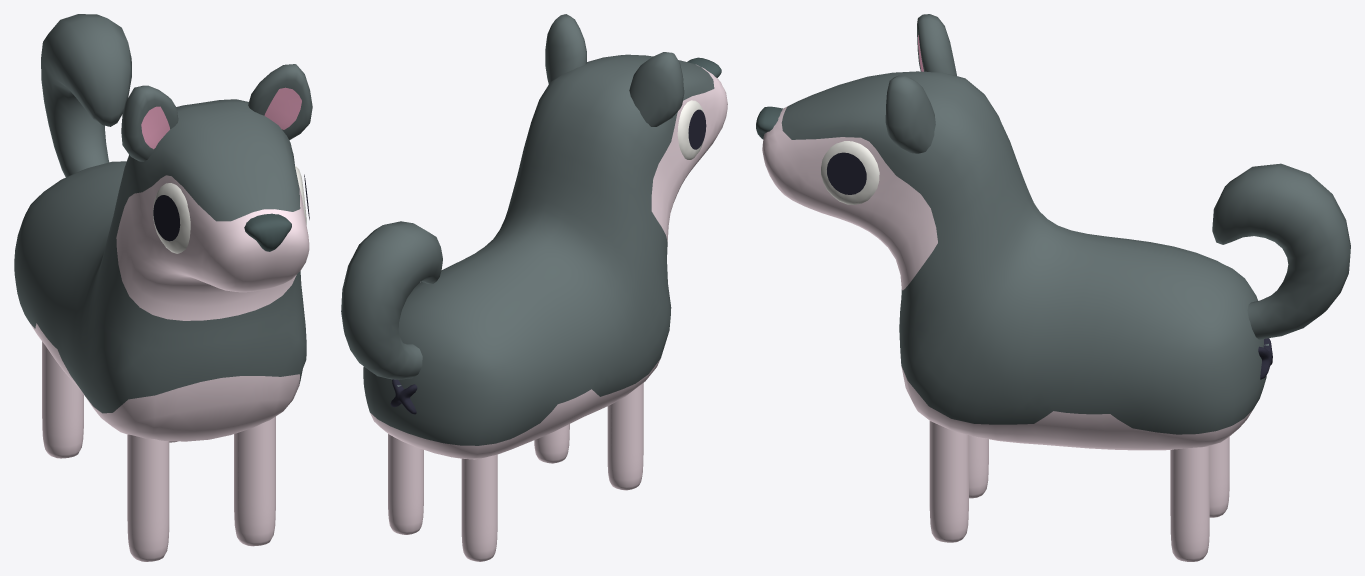
The model's file is Husky.glb.
3 views of the same model, side by side, from view 1: azimuth 30°, elevation 25°; view 2: azimuth 150°, elevation 25°; view 3: azimuth 270°, elevation 25° (orthographic). The views are drawn at different scales.
Parts seen in each view (by area): view 1: Husky; view 2: Husky; view 3: Husky.
Part boxes in pixels (box(x1,y1,x2,y2)): Husky: box(14, 14, 312, 561); Husky: box(341, 14, 727, 561); Husky: box(756, 14, 1350, 561).
Size of the model in its own units: 1.21 by 2.5 by 2.89.
1 material, 1 textured.
